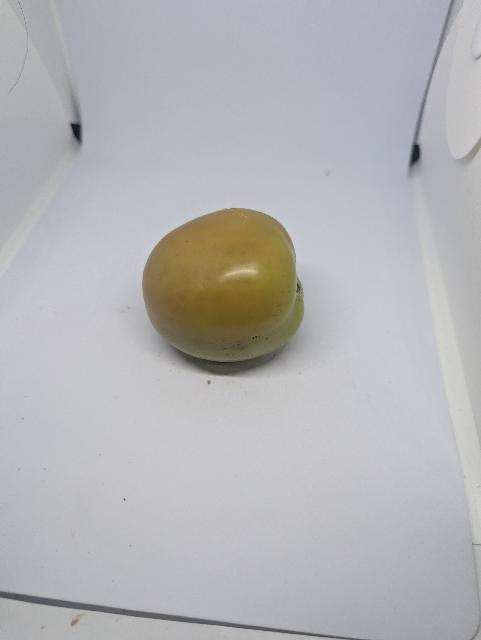breaker: (143, 208, 304, 362)
